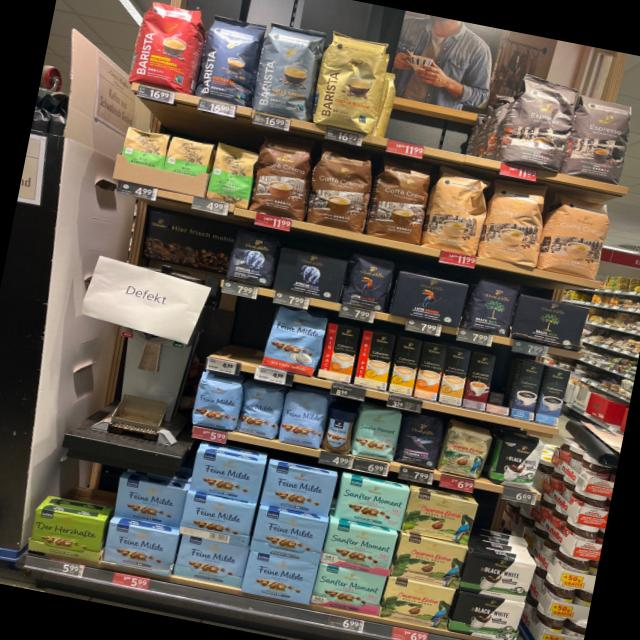AB Bohne: (224, 227, 284, 292)
AB Gemahlen: (272, 246, 351, 306)
Athiopien Bohne: (160, 134, 217, 199), (116, 124, 170, 188)
Athiopien Gemahlen: (202, 139, 260, 210)
BM Gemahlen: (506, 293, 592, 352)
BW Bohne: (459, 270, 521, 340), (488, 428, 546, 493)
BW Gemahlen: (458, 551, 539, 603), (446, 590, 527, 640)
Barista CB: (307, 30, 394, 138)
Barista CC: (248, 21, 328, 124)
Barista Espresso: (190, 10, 270, 110)
Barista Kolumbien: (126, 0, 211, 97)
C Fino Bohne: (394, 412, 446, 471)
CC Mild: (530, 187, 614, 283), (472, 175, 554, 272), (417, 162, 494, 258)
CC Vollmundig 36 Pads: (360, 155, 438, 249), (302, 146, 378, 235), (248, 134, 318, 221)
Colombia BB Bohne: (434, 416, 494, 482)
Colombia BB Gemahlen: (400, 488, 478, 547), (391, 531, 468, 590), (380, 576, 455, 630)
Empty Shelf: (382, 44, 514, 160), (37, 461, 117, 516), (472, 502, 538, 556), (484, 356, 520, 416)
Espresso Aromatisch: (495, 70, 582, 176), (560, 90, 638, 188)
FM 36 Pads: (260, 303, 330, 381)
FM Bohne: (276, 386, 332, 451), (190, 370, 247, 433), (234, 378, 287, 441)
FM Gemahlen: (99, 520, 181, 578), (248, 506, 329, 564), (176, 491, 258, 548), (259, 461, 338, 519), (188, 448, 267, 506), (240, 550, 320, 607), (172, 532, 250, 590), (112, 476, 188, 528)
FM Instant: (318, 402, 360, 456)
Herzhatfe Mundig: (27, 506, 108, 562)
LG Bohne: (339, 250, 398, 315)
LG Gemahlen: (388, 269, 468, 329)
SM Bohne: (349, 402, 404, 463)
SM Gemahlen: (307, 560, 388, 618), (332, 474, 412, 532), (321, 520, 398, 578)
Simo CCMild: (350, 328, 398, 392)
Simo CCMild bigpack: (386, 335, 424, 398)
Simo CCVollmundig: (318, 322, 362, 385), (411, 341, 448, 403)
Simo Decaff: (436, 345, 473, 407)
Simo Es Kraft: (460, 351, 497, 412)
Simo Kaffee Kraft: (511, 360, 546, 422)
Simo Kaffee Mild: (534, 365, 570, 428)
